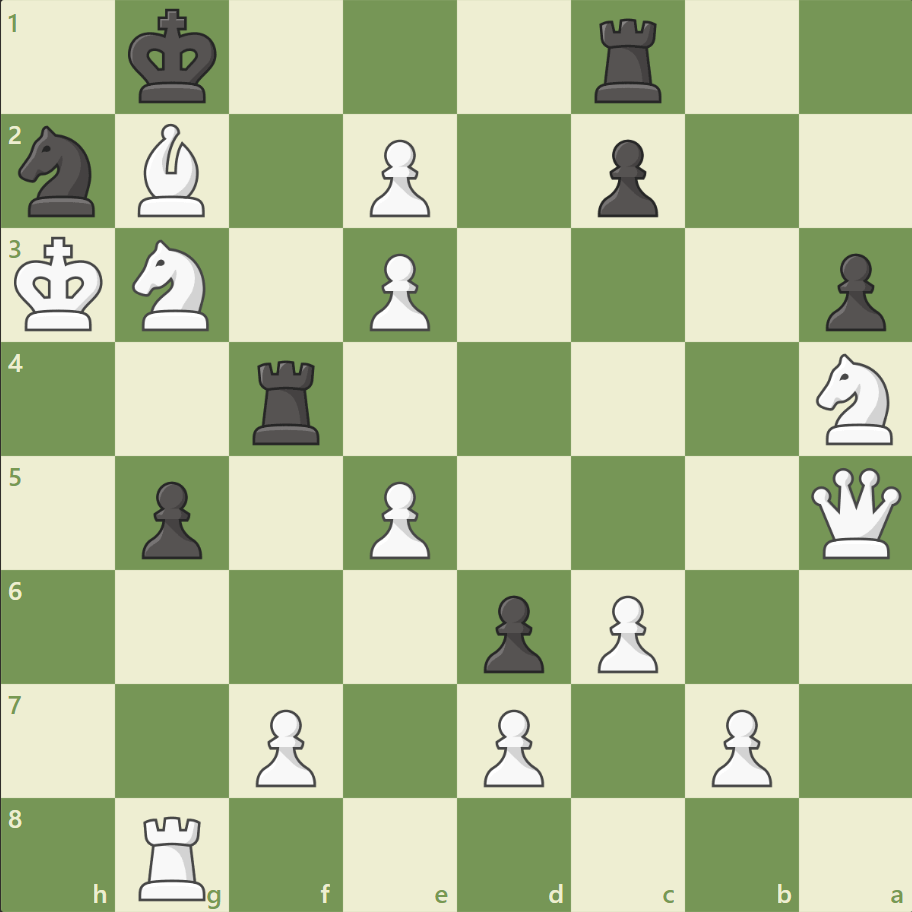B: (131, 120, 215, 222)
K: (11, 231, 111, 339)
N: (124, 234, 222, 337), (806, 348, 903, 450)
P: (701, 700, 776, 791), (474, 700, 549, 791), (247, 700, 322, 791), (588, 586, 662, 677), (361, 473, 435, 564), (361, 246, 435, 337), (361, 132, 435, 223)
Q: (805, 463, 904, 562)
R: (133, 806, 215, 904)
k: (124, 4, 224, 112)
n: (11, 121, 108, 223)
p: (474, 586, 549, 677), (133, 473, 208, 564), (815, 246, 889, 337), (588, 132, 662, 223)
r: (246, 352, 329, 449), (587, 12, 670, 109)
